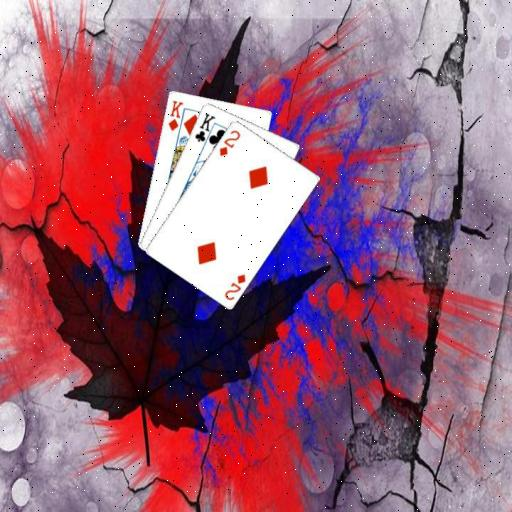2D: (216, 127, 242, 157), (221, 271, 247, 301)
KC: (192, 110, 218, 149)
KD: (165, 98, 184, 133)
